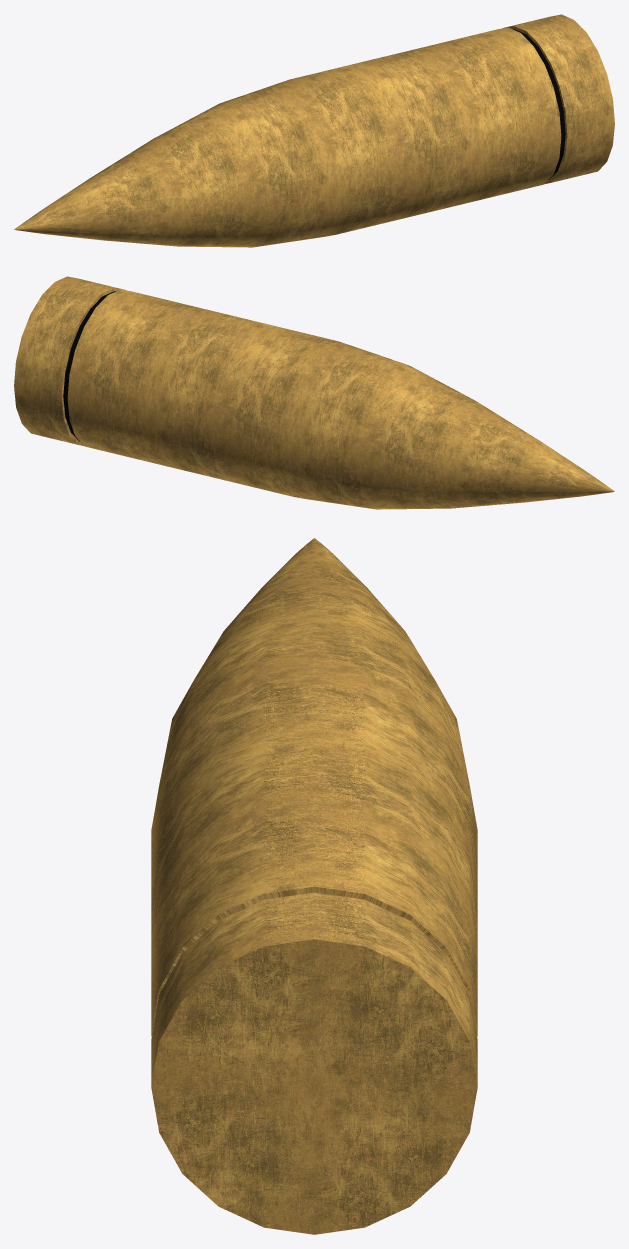
File: Bullet_done.fbx
3 views of the same model, one above another, from view 1: azimuth 30°, elevation 25°; view 2: azimuth 150°, elevation 25°; view 3: azimuth 270°, elevation 25° (orthographic). The views are drawn at different scales.
Parts seen in each view (by area): view 1: pCylinder1; view 2: pCylinder1; view 3: pCylinder1.
Part boxes in pixels (x1,y1,x2,y2): pCylinder1: [14, 14, 614, 247]; pCylinder1: [14, 276, 614, 509]; pCylinder1: [151, 538, 477, 1234].
Size of the model in its own units: 7.92 by 2.01 by 2.
2 materials, 1 textured.
